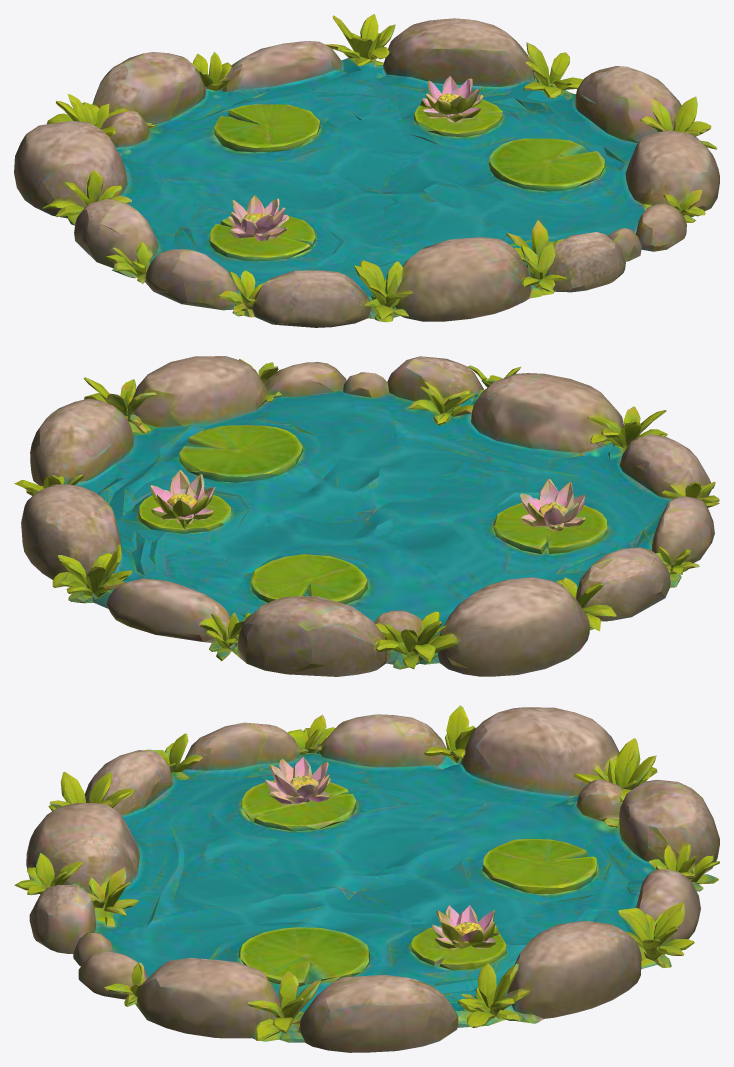
The model's file is lotus-pond-gpu.glb.
The picture shows the model from 3 angles, top to bottom: view 1: azimuth 30°, elevation 25°; view 2: azimuth 150°, elevation 25°; view 3: azimuth 270°, elevation 25°; orthographic projection. The views are drawn at different scales.
Parts seen in each view (by area): view 1: output_unwrapped; view 2: output_unwrapped; view 3: output_unwrapped.
Boxes of the visible parts, x1,y1,x2,y2 form: output_unwrapped: (14, 14, 719, 327); output_unwrapped: (14, 356, 719, 676); output_unwrapped: (14, 705, 719, 1052).
Bounding box in the file's own units: 1.9 × 0.1727 × 1.82.
1 material, 1 textured.
